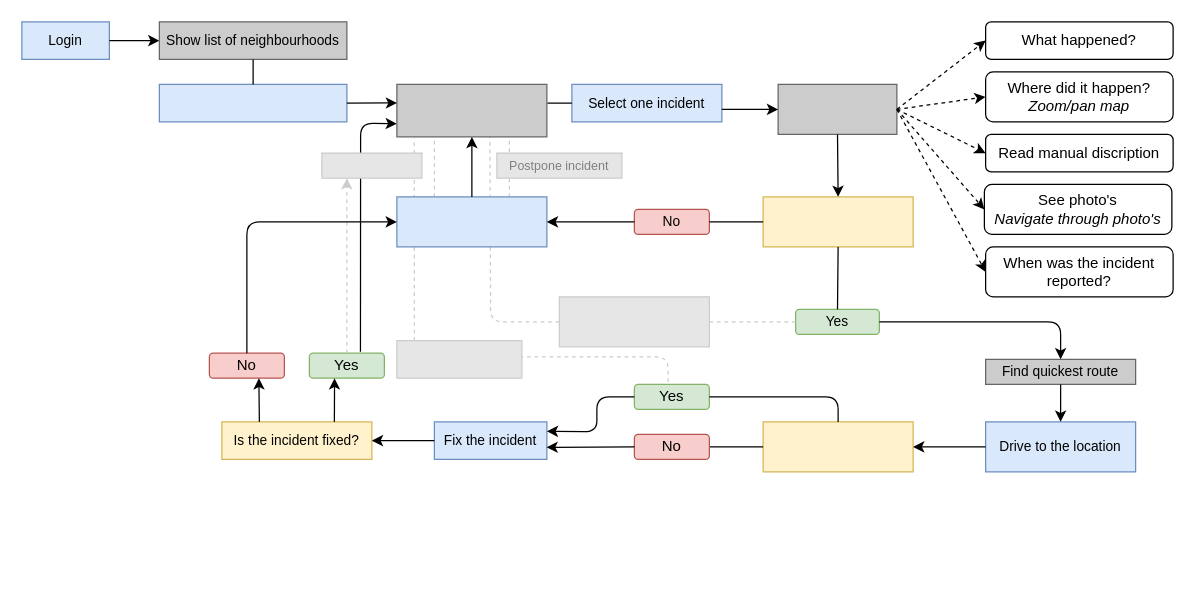
The diagram is 1195 pixels wide and 608 high, and some of its shapes have lost their labels. The centre of each missing label's shape, as x and y in pixels:
Decide whether to go to the incident: [837,221]
Delete incident: [371,165]
Delete or postpone incident?: [471,221]
Display incident as "In progress": [633,321]
Evaluate situation, do I need help?: [837,446]
Report as help needed on incident: [459,358]
Select one neighbourhood: [252,102]
Show information on incident: [837,108]
Show list of incidents in neighbourhood: [471,110]
